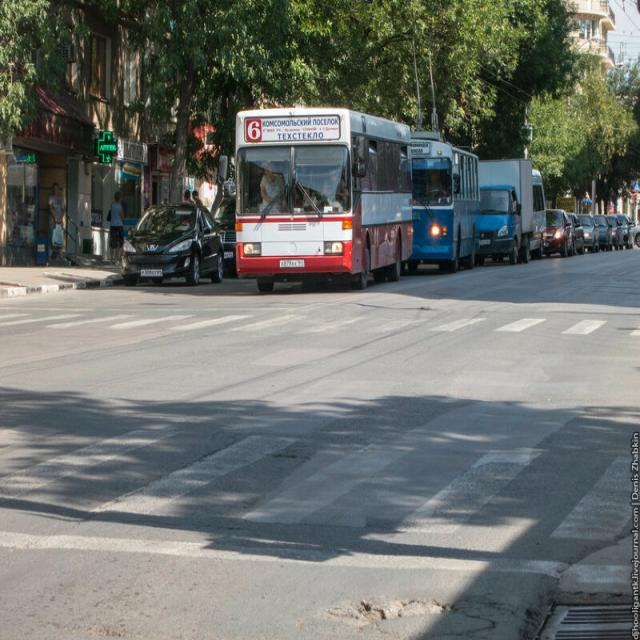number-of-bus: (247, 121, 263, 142)
